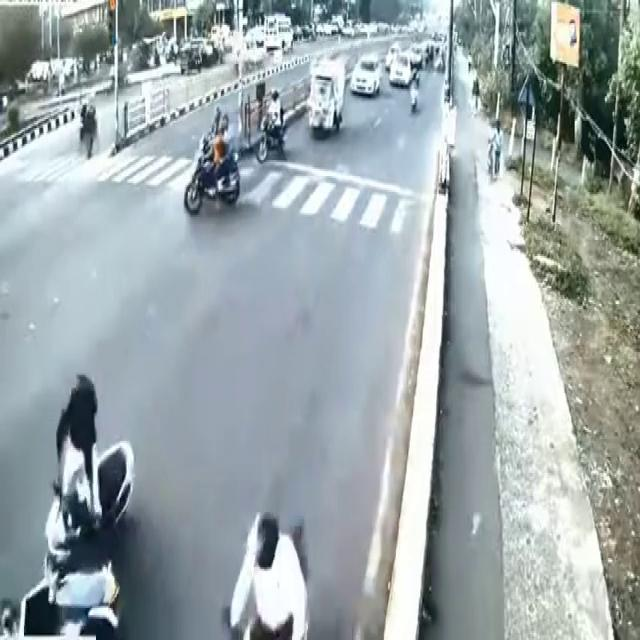accident: (5, 341, 136, 640)
